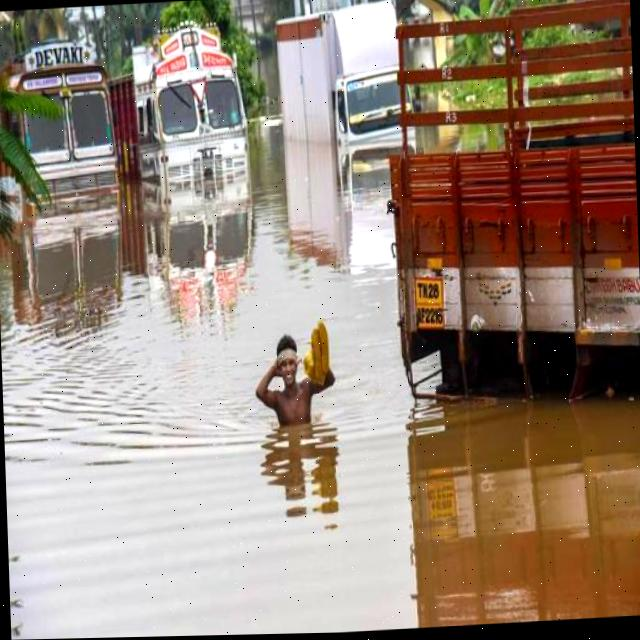civilian: (233, 309, 344, 448)
